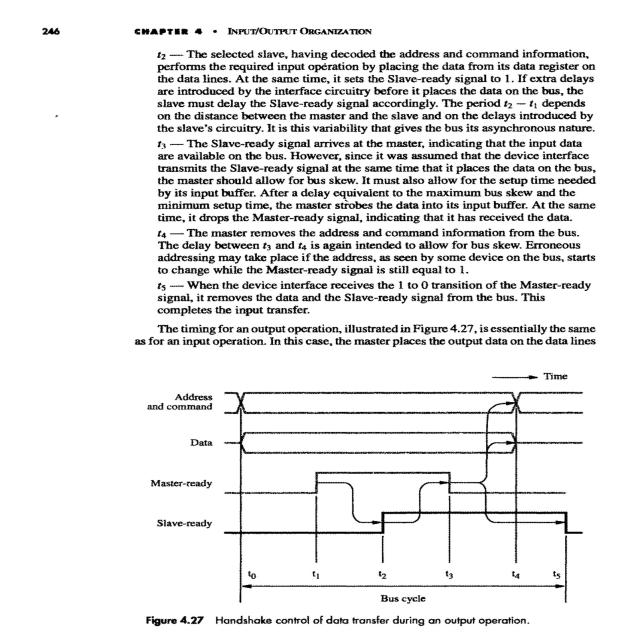diagram: (133, 365, 640, 639)
